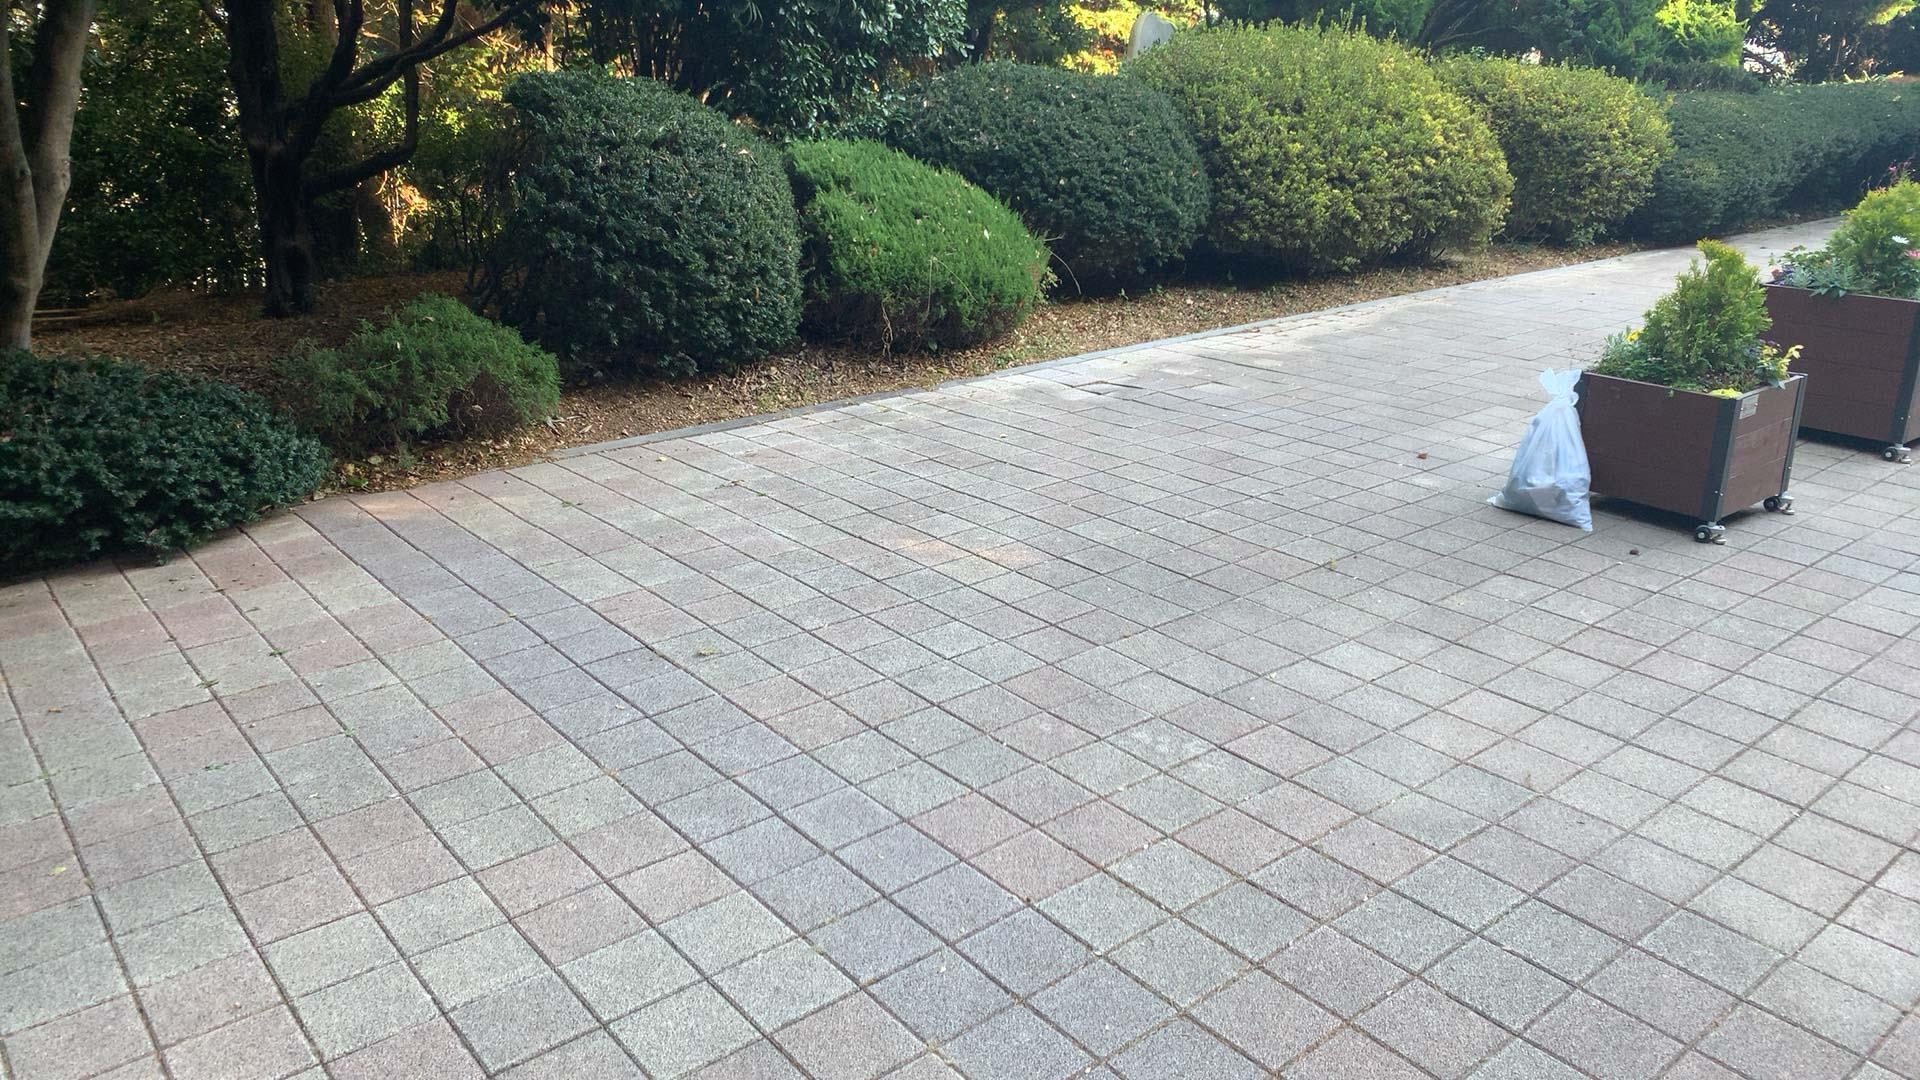white_bag: (1477, 357, 1600, 535)
